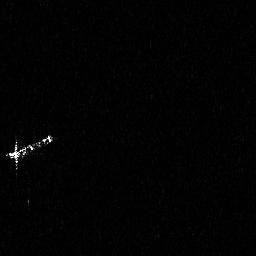ship: (5, 132, 56, 176)
